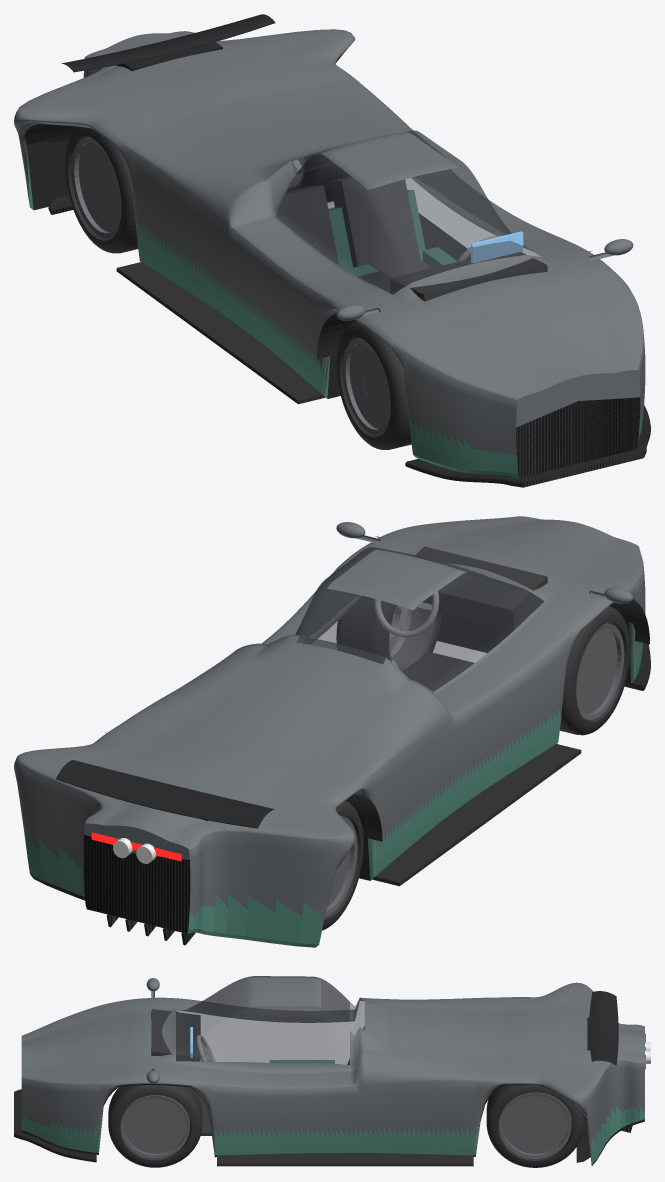
The model's file is aston-martin-valkyrie.glb.
3 renders of one model, top to bottom at view 1: azimuth 30°, elevation 25°; view 2: azimuth 150°, elevation 25°; view 3: azimuth 270°, elevation 25°, orthographic. The views are drawn at different scales.
Visible parts, largest first — view 1: Body_PrimaryPaint, Glass_Windows, Carbon_Exterior, Body_SecondaryPaint, Interior_Seats, WheelWells, Rim_RR, Tire_FR, Rim_FR, Underbody, Tire_RR, Interior_Dashboard (+3 smaller); view 2: Body_PrimaryPaint, Glass_Windows, Carbon_Exterior, Body_SecondaryPaint, WheelWells, Interior_Dashboard, Rim_FR, Tire_FR, Tire_FL, Underbody, Rim_FL, Interior_Tub (+4 smaller); view 3: Body_PrimaryPaint, Glass_Windows, Body_SecondaryPaint, Rim_RL, Rim_FL, Carbon_Exterior, WheelWells, Tire_FL, Tire_RL, Interior_Dashboard, Underbody, Interior_SteeringWheel (+1 smaller).
Boxes of the visible parts, x1,y1,x2,y2 form: Body_PrimaryPaint: [14, 29, 645, 455]; Glass_Windows: [275, 130, 540, 294]; Carbon_Exterior: [48, 14, 650, 487]; Body_SecondaryPaint: [23, 146, 644, 477]; Interior_Seats: [275, 176, 431, 277]; WheelWells: [48, 125, 591, 404]; Rim_RR: [71, 137, 121, 238]; Tire_FR: [336, 321, 411, 449]; Rim_FR: [342, 338, 390, 434]; Underbody: [24, 52, 344, 398]; Tire_RR: [65, 126, 138, 253]; Interior_Dashboard: [390, 252, 547, 301]; Body_PrimaryPaint: [14, 516, 645, 930]; Glass_Windows: [295, 547, 544, 691]; Carbon_Exterior: [56, 637, 650, 945]; Body_SecondaryPaint: [25, 623, 643, 947]; WheelWells: [105, 536, 649, 886]; Interior_Dashboard: [414, 546, 547, 630]; Rim_FR: [576, 623, 624, 719]; Tire_FR: [560, 606, 630, 735]; Tire_FL: [336, 596, 442, 660]; Underbody: [30, 614, 630, 900]; Rim_FL: [388, 605, 435, 670]; Interior_Tub: [402, 652, 474, 680]; Body_PrimaryPaint: [21, 976, 644, 1156]; Glass_Windows: [176, 977, 364, 1064]; Body_SecondaryPaint: [21, 1106, 644, 1164]; Rim_RL: [499, 1092, 571, 1158]; Rim_FL: [120, 1095, 189, 1158]; Carbon_Exterior: [14, 991, 632, 1162]; WheelWells: [217, 1153, 473, 1166]; Tire_FL: [108, 1085, 202, 1167]; Tire_RL: [486, 1084, 583, 1167]; Interior_Dashboard: [151, 1009, 200, 1061]; Underbody: [21, 1084, 644, 1165]; Interior_SteeringWheel: [196, 1035, 215, 1062].
Size of the model in its own units: 2.02 by 1.12 by 4.66.
Materials: 17 (2 with a texture image).
